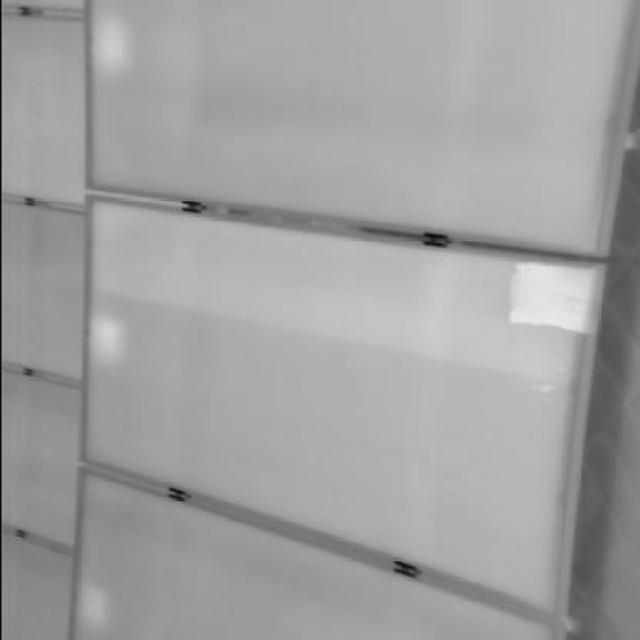hotspot: (507, 256, 596, 336)
